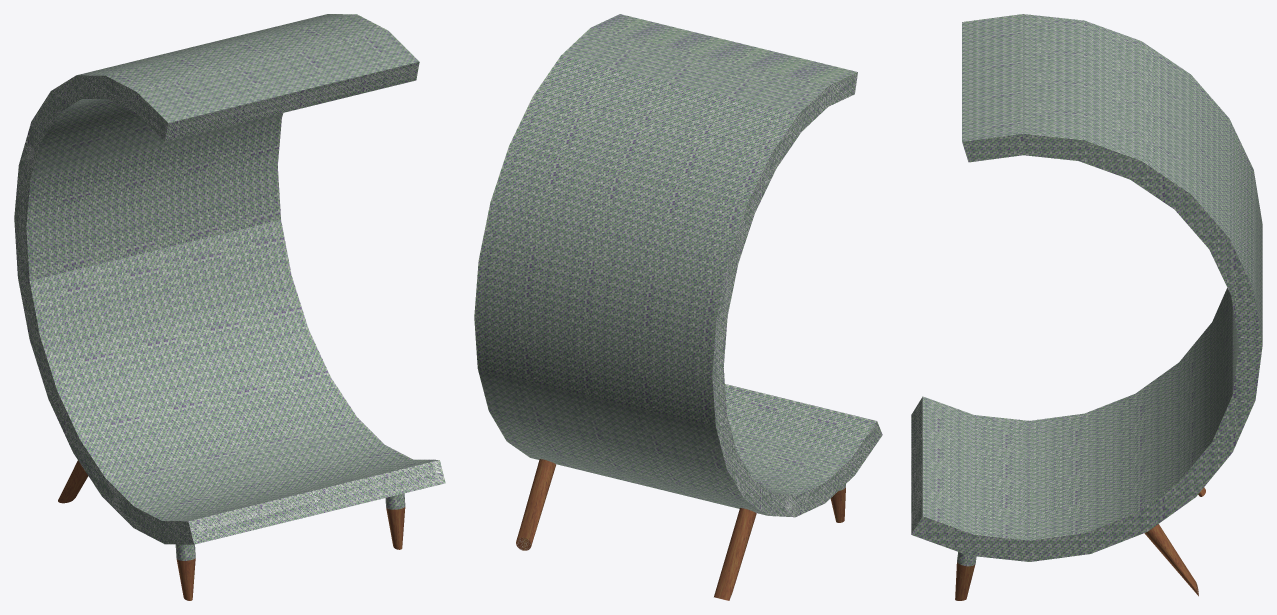
The model's file is daybed furniture 5.dae.
3 renders of one model, left to right at view 1: azimuth 30°, elevation 25°; view 2: azimuth 150°, elevation 25°; view 3: azimuth 270°, elevation 25°, orthographic. The views are drawn at different scales.
Parts seen in each view (by area): view 1: group_0 (×5); view 2: group_0 (×4); view 3: group_0 (×4).
Part boxes in pixels (x1,y1,x2,y2): group_0 (×5): (14,14,445,600); group_0 (×4): (474,14,882,600); group_0 (×4): (911,14,1262,600).
Bounding box in the file's own units: 47.24 × 58.57 × 87.62.
3 materials, 2 textured.
